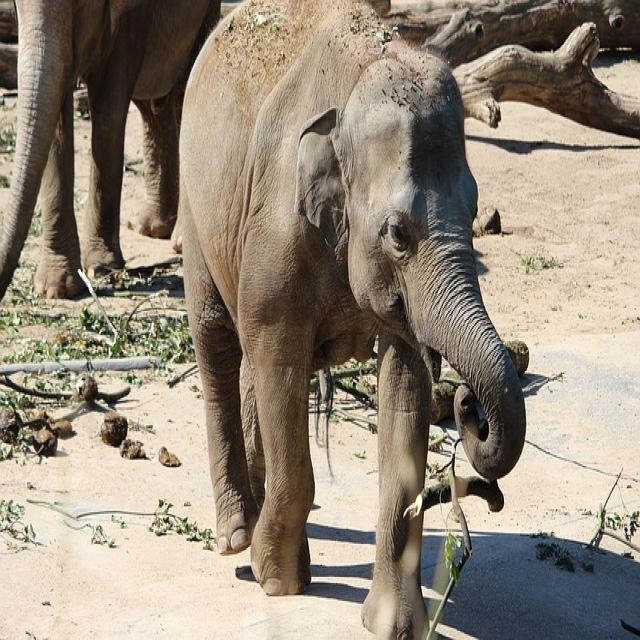elephant: (180, 4, 525, 638), (0, 0, 219, 299)
